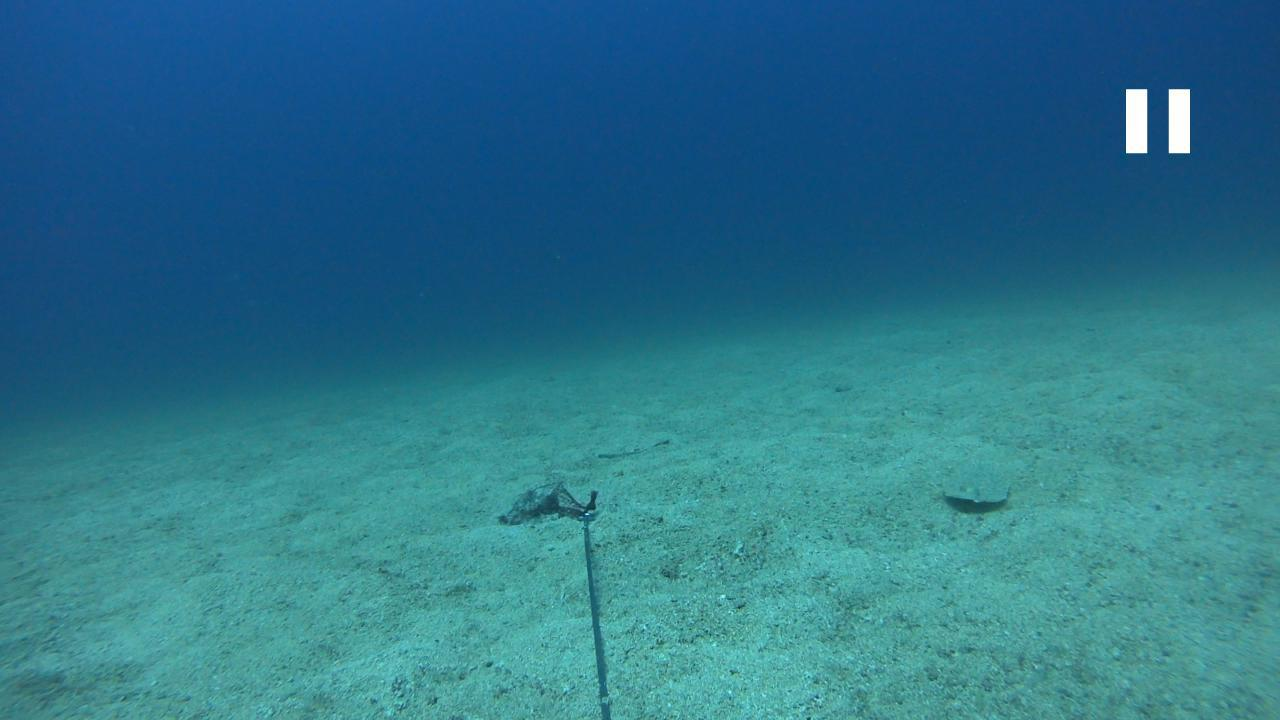bothus: (939, 467, 1013, 516)
